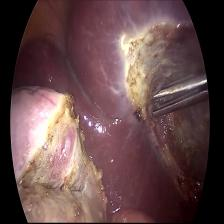Grasper: (136, 64, 206, 142)
